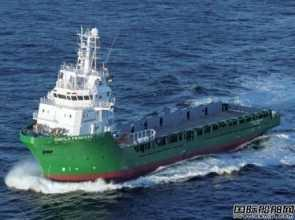Cargoship: (14, 18, 277, 185)
